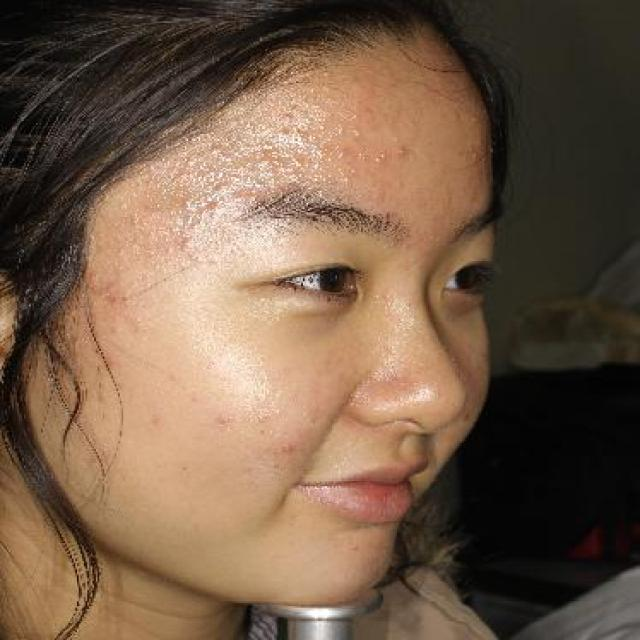Acne: (277, 440, 303, 460)
Whiteheads: (207, 175, 236, 200), (275, 106, 302, 127), (176, 190, 198, 212), (274, 120, 296, 142), (178, 151, 198, 174), (203, 140, 223, 160), (392, 144, 411, 162), (334, 146, 351, 163)
